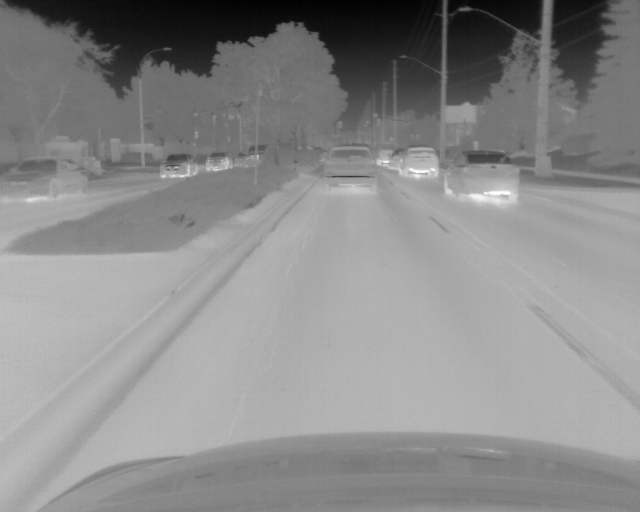car: (1, 156, 90, 203), (445, 151, 519, 202), (322, 146, 378, 191), (399, 146, 438, 177), (160, 153, 198, 177), (205, 152, 232, 171), (388, 147, 401, 169)
